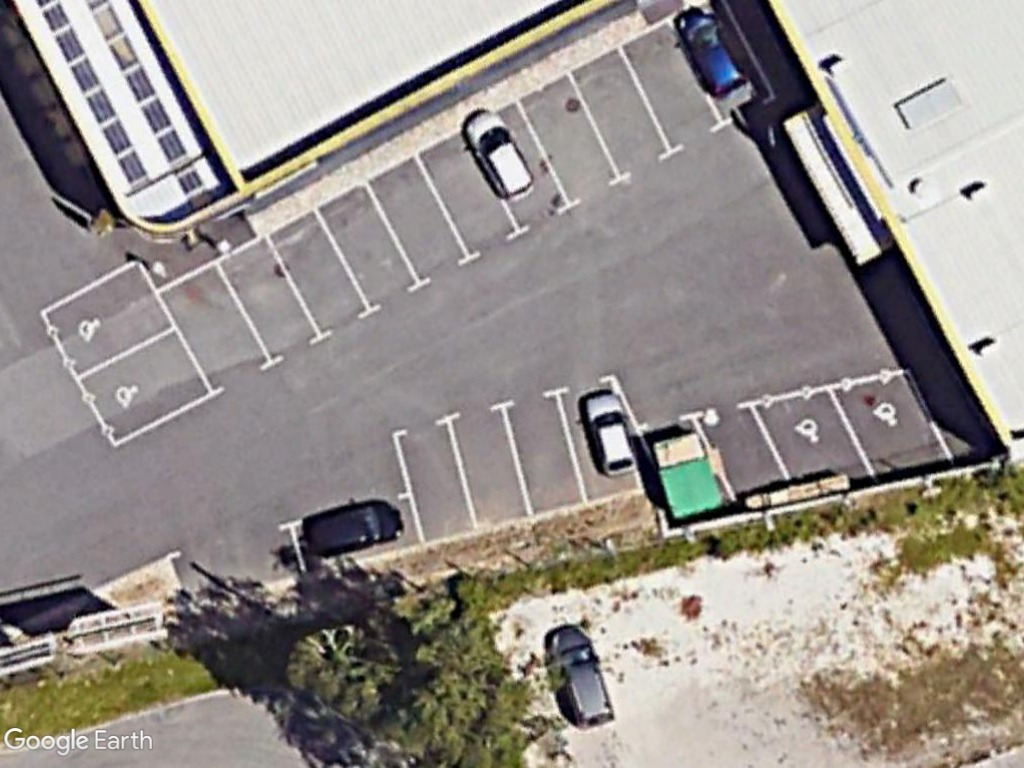car: (547, 622, 614, 732), (462, 109, 536, 203), (576, 388, 638, 479)
